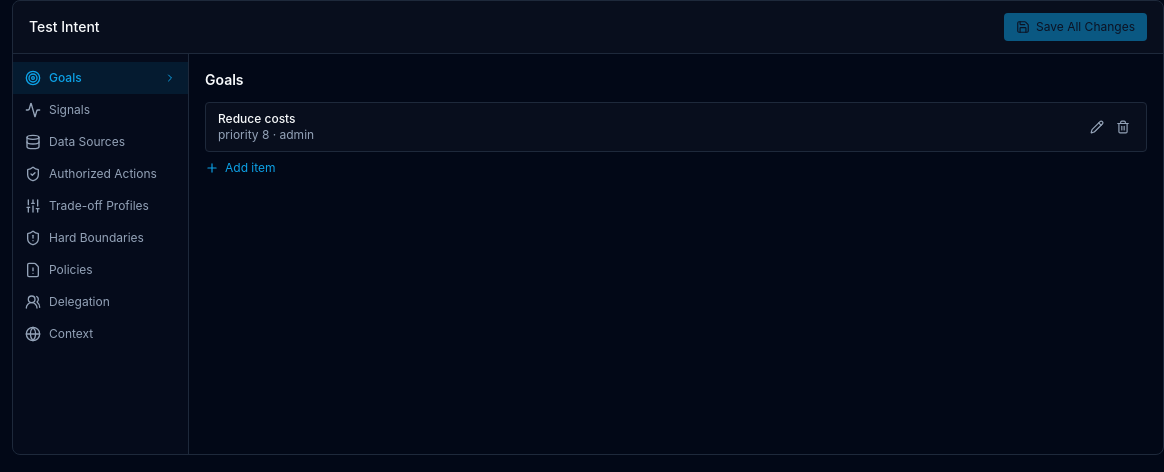
Test: IntentDocEditor › navigates to Hard Boundaries section
The width and height of the screenshot is (1164, 472).
Expected: the text "Hard Boundaries" is shown, [49,230,144,245]
What coordinates should you click on to do the following:
click the button "Hard Boundaries"
I would click on:
 (100, 238)
Its box is [13,222,188,254].
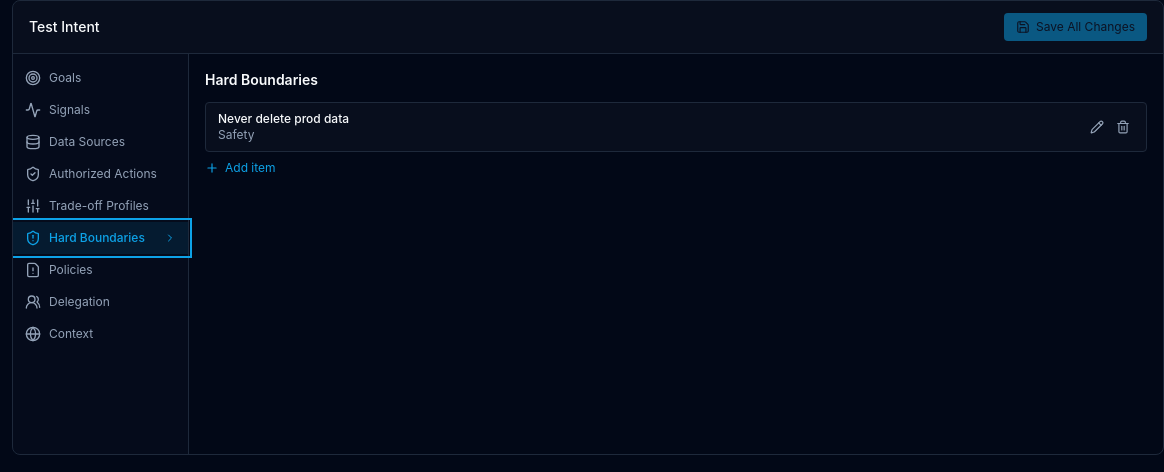
Now the text "Never delete prod data" is shown, box [218,111,349,126]
